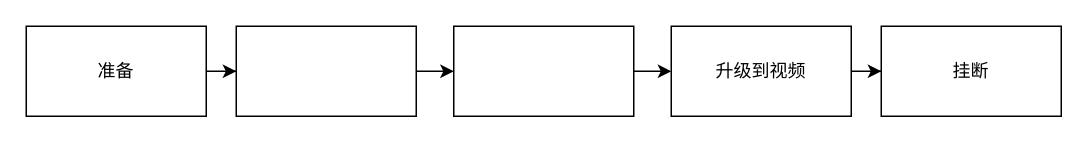
The diagram is 1088 pixels wide and 143 high, and some of its shapes have lost their labels. Here are the shapes that lost their labels. From the top down, the centre of each, then its label:
At point 325,70: "音频呼叫 call".
At point 543,70: "音频通话".
